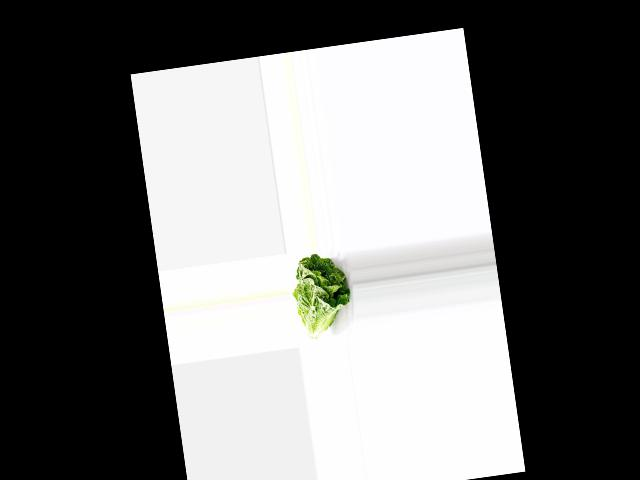lettuce: (287, 250, 356, 339)
